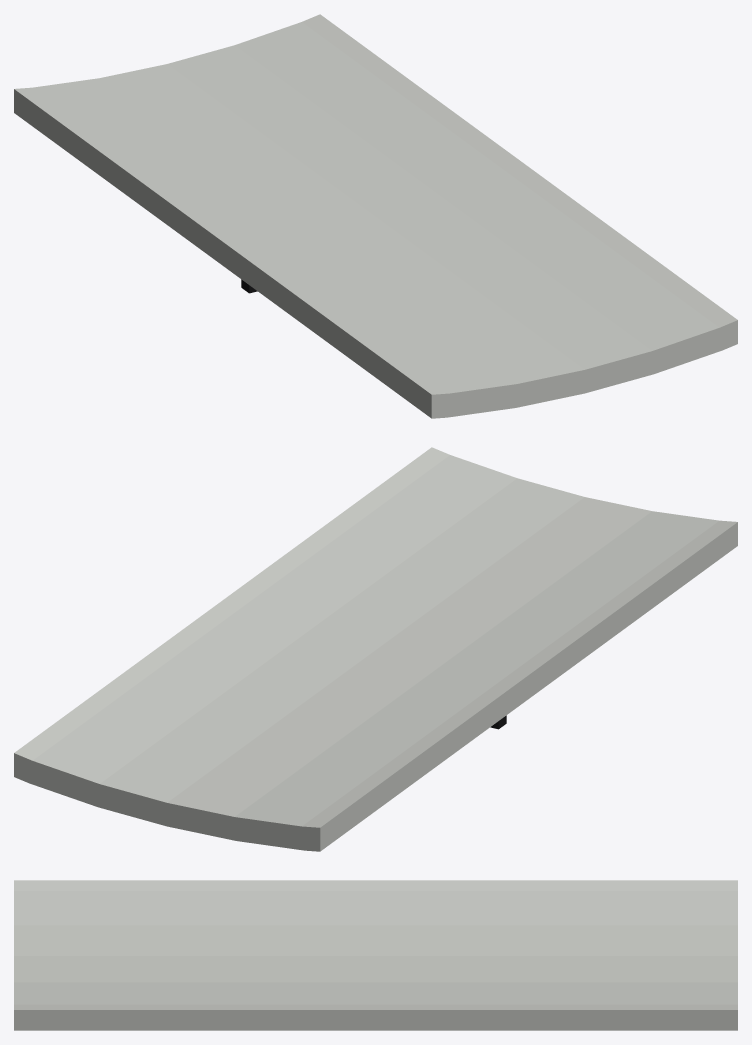
The model's file is tower_door.glb.
The picture shows the model from 3 angles, top to bottom: view 1: azimuth 30°, elevation 25°; view 2: azimuth 150°, elevation 25°; view 3: azimuth 270°, elevation 25°; orthographic projection. The views are drawn at different scales.
Parts seen in each view (by area): view 1: tower_door; view 2: tower_door; view 3: tower_door.
Boxes of the visible parts, box(x1,y1,x2,y2) form: tower_door: box(14, 14, 737, 418); tower_door: box(14, 447, 737, 851); tower_door: box(14, 880, 737, 1030).
Bounding box in the file's own units: 0.88 × 0.1541 × 2.08.
Materials: 2 (1 with a texture image).
